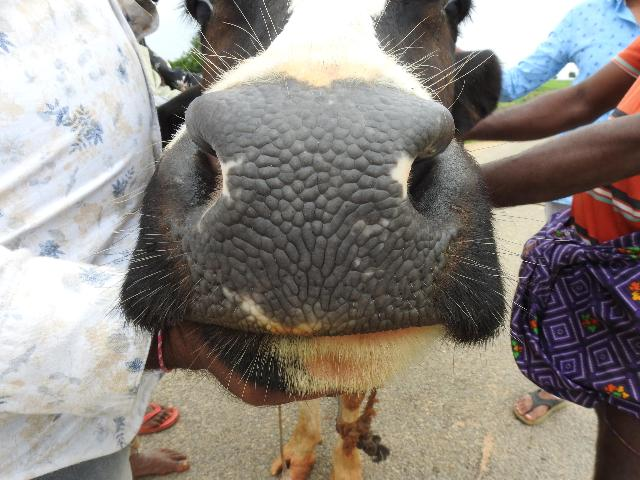Muzzle: (180, 99, 442, 320)
